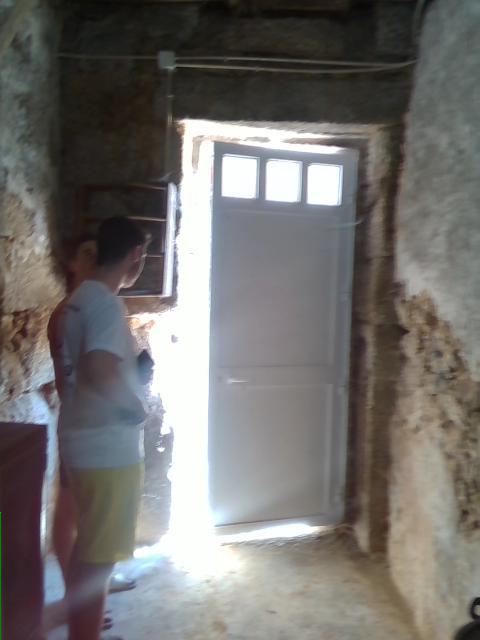door: (206, 136, 358, 527)
